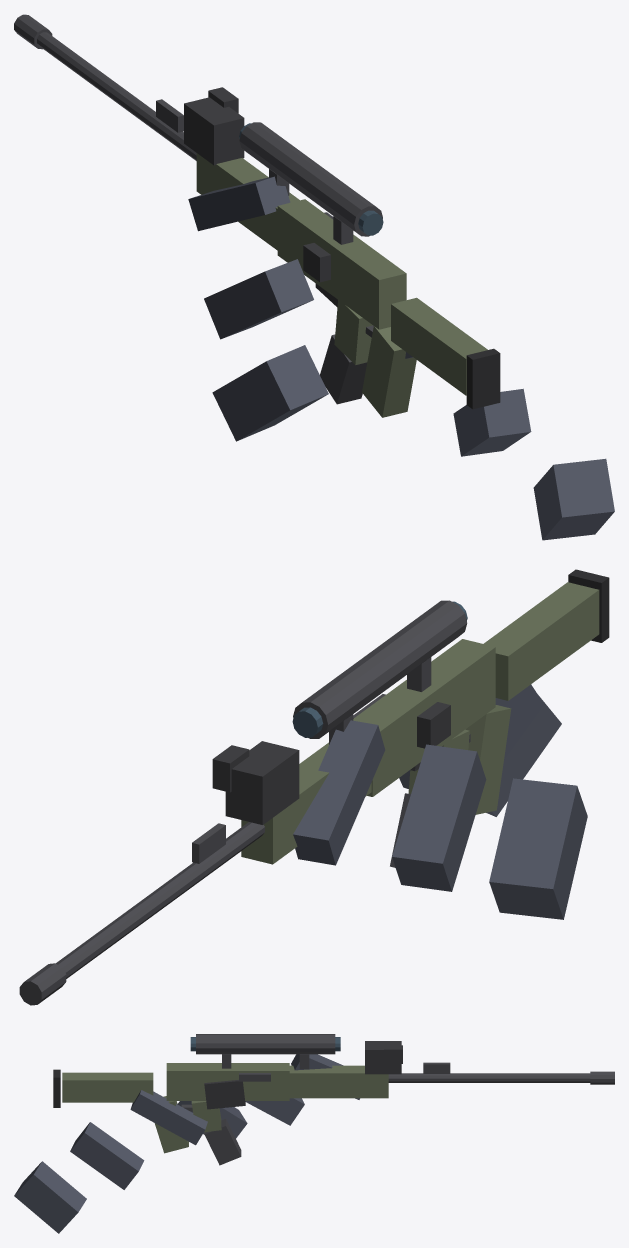
Rendered from Scout.glb.
3 views of the same model, one above another, from view 1: azimuth 30°, elevation 25°; view 2: azimuth 150°, elevation 25°; view 3: azimuth 270°, elevation 25° (orthographic). The views are drawn at different scales.
Parts seen in each view (by area): view 1: Scout, arms; view 2: Scout, arms; view 3: Scout, arms.
Boxes of the visible parts, x1=… form: Scout: x1=14, y1=14, x2=500, y2=417; arms: x1=184, y1=87, x2=614, y2=540; Scout: x1=19, y1=569, x2=609, y2=1005; arms: x1=212, y1=684, x2=587, y2=919; Scout: x1=53, y1=1034, x2=614, y2=1165; arms: x1=14, y1=1041, x2=402, y2=1233.
Bounding box in the file's own units: 0.3162 × 0.3413 × 1.12.
